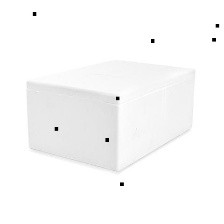foam_box: (16, 50, 201, 177)
